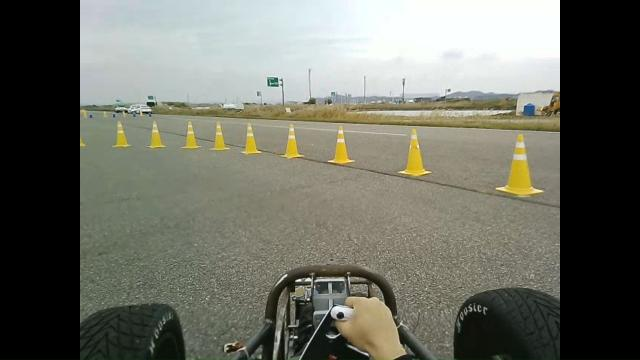yellow cone: (494, 133, 544, 196), (397, 128, 432, 177), (325, 125, 355, 165), (280, 123, 304, 159), (240, 122, 262, 154), (209, 120, 230, 150), (146, 120, 166, 149), (181, 120, 201, 149), (112, 120, 131, 148)
